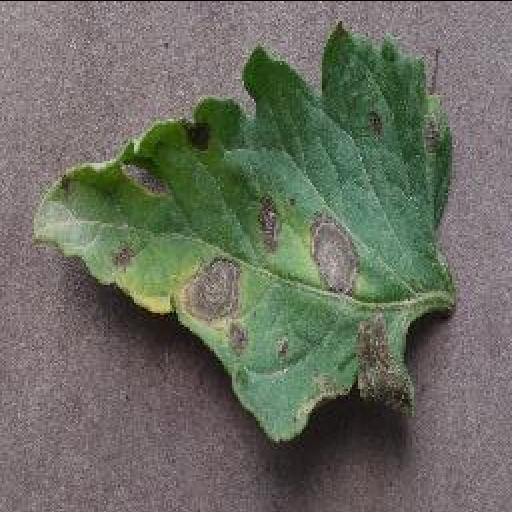disease_tomato: (31, 21, 461, 449)
